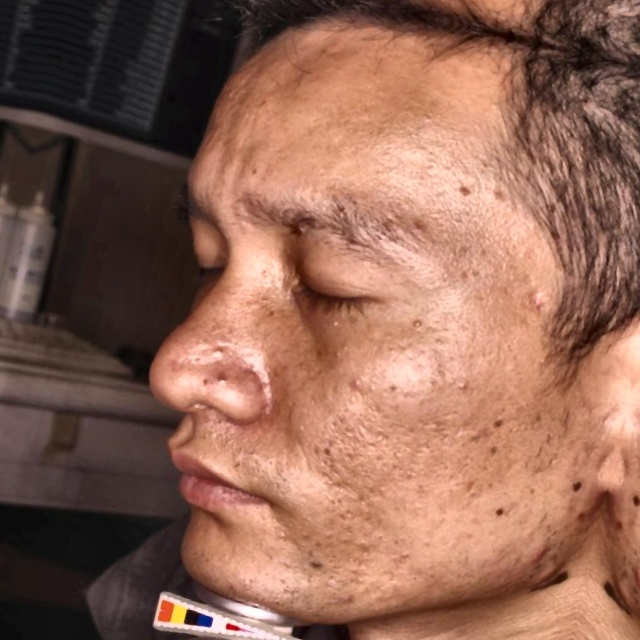comedone: (528, 539, 561, 565), (608, 576, 632, 604), (540, 560, 564, 588), (621, 561, 640, 587)
